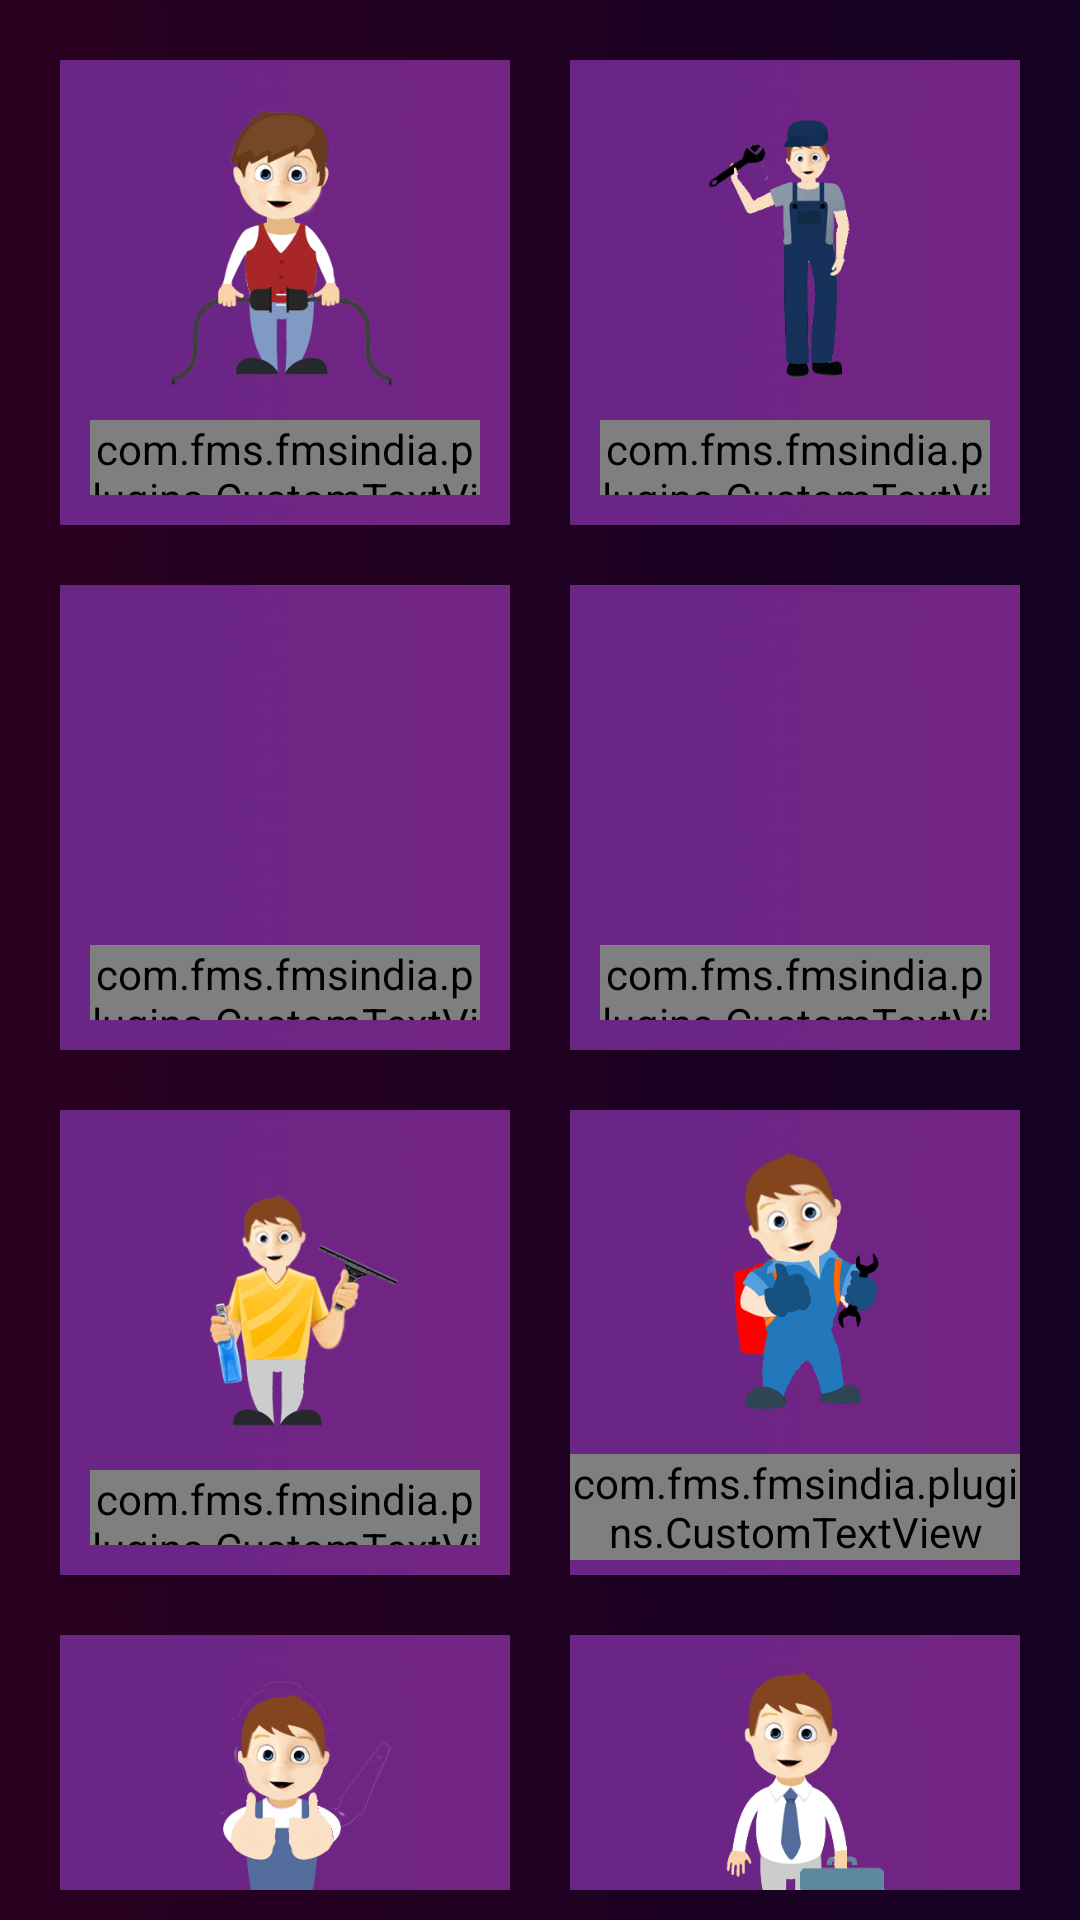

Named icons in this screenshot (1080x1920) and their centers, (x=x, y=y):
eilectrical: (x=282, y=248)
motorservice: (x=806, y=1280)
pilumbing: (x=779, y=248)
